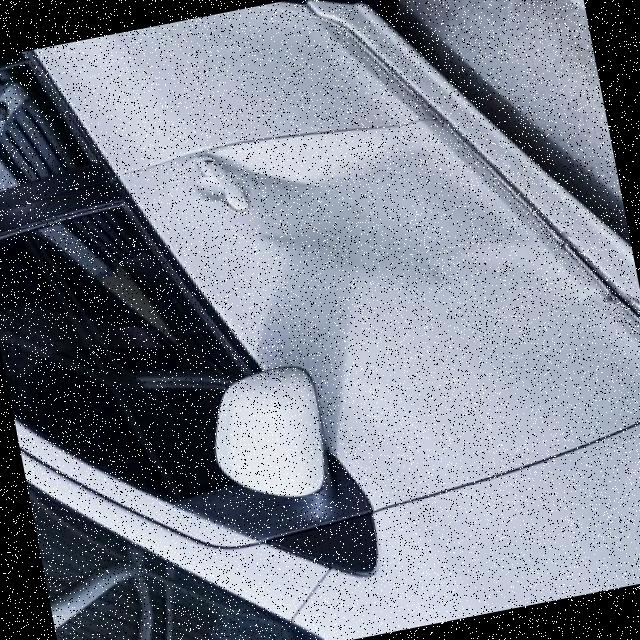Dent: (228, 84, 508, 314)
